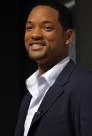male: (20, 5, 76, 67)
